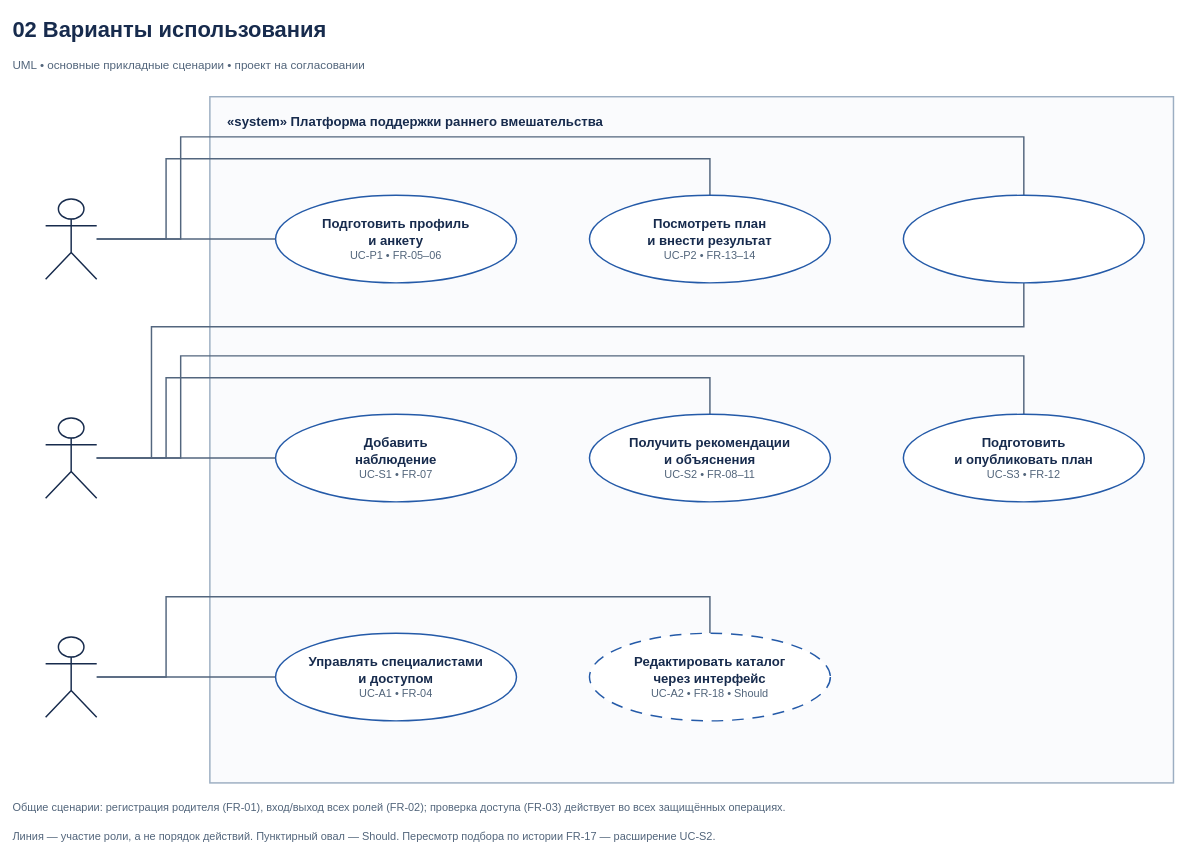
Some shapes in this 1186 by 867 pixel diagram are drawn without their labels. Here are the shapes that lost their labels. From the top down, the centre of each, then its label:
(71,239): Родитель / представитель
(1023,238): Посмотреть историю и выполнение UC-P3 • FR-15–16
(71,458): Специалист
(71,677): Администратор
